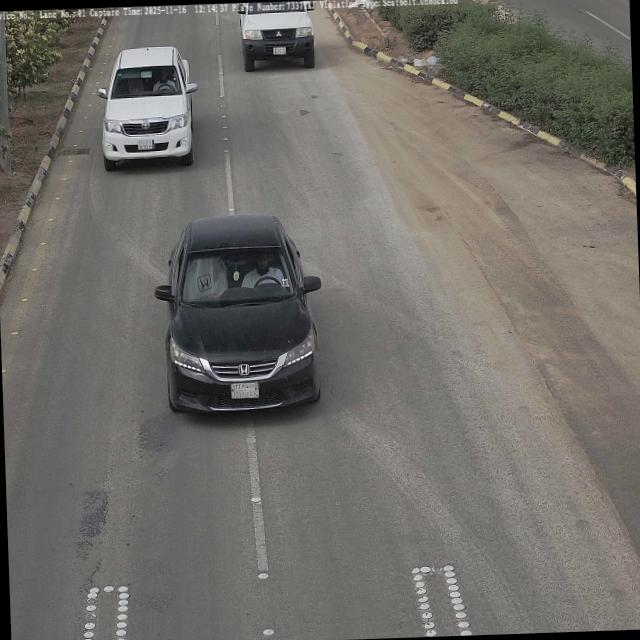person_without_seatbelt: (242, 252, 282, 291)
